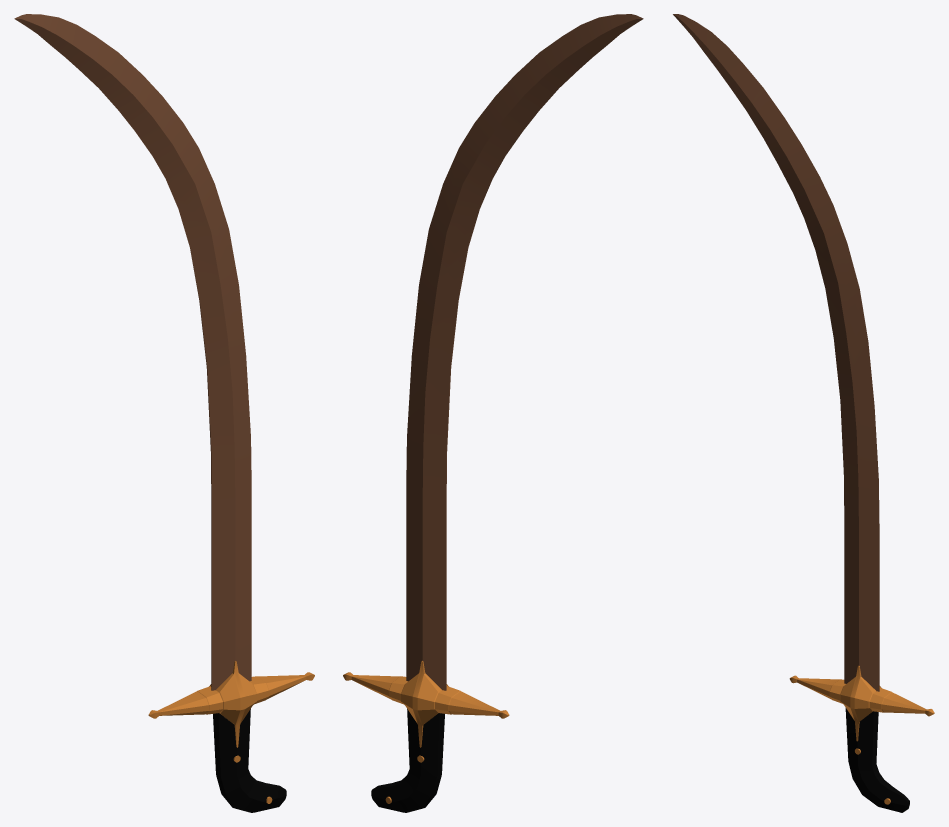
File: SM_Sword16_Shamshir_4Bronze.fbx
3 views of the same model, side by side, from view 1: azimuth 30°, elevation 25°; view 2: azimuth 150°, elevation 25°; view 3: azimuth 330°, elevation 25° (orthographic). The views are drawn at different scales.
Visible parts, largest first — view 1: Cube.341, Cylinder.434, Cube.342; view 2: Cube.341, Cylinder.434, Cube.342; view 3: Cube.341, Cylinder.434, Cube.342.
Boxes of the visible parts, x1,y1,x2,y2 form: Cube.341: (14, 14, 251, 690); Cylinder.434: (213, 709, 286, 812); Cube.342: (148, 661, 314, 747); Cube.341: (406, 14, 643, 690); Cylinder.434: (371, 709, 444, 812); Cube.342: (343, 661, 509, 747); Cube.341: (673, 14, 879, 691); Cylinder.434: (845, 708, 909, 812); Cube.342: (789, 666, 934, 741).
Bounding box in the file's own units: 0.3006 × 0.8173 × 0.0382.
